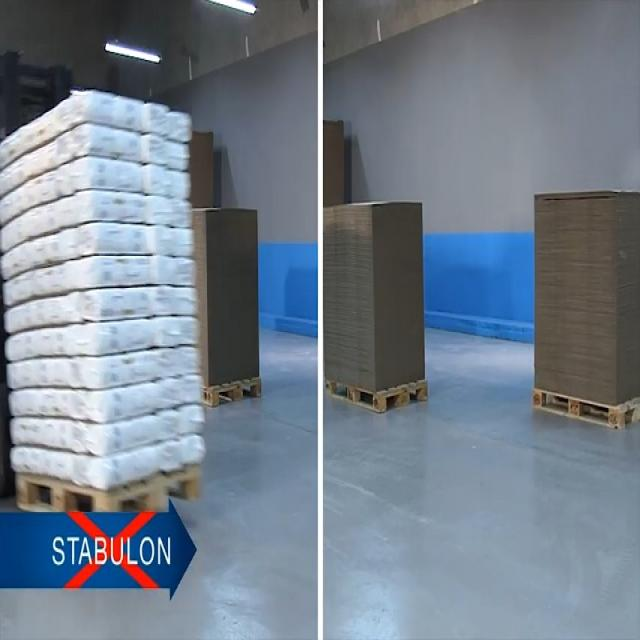Chariot elevateur: (2, 44, 72, 145)
Palette: (11, 463, 209, 517), (527, 381, 640, 433), (328, 369, 430, 420), (199, 371, 269, 420)
